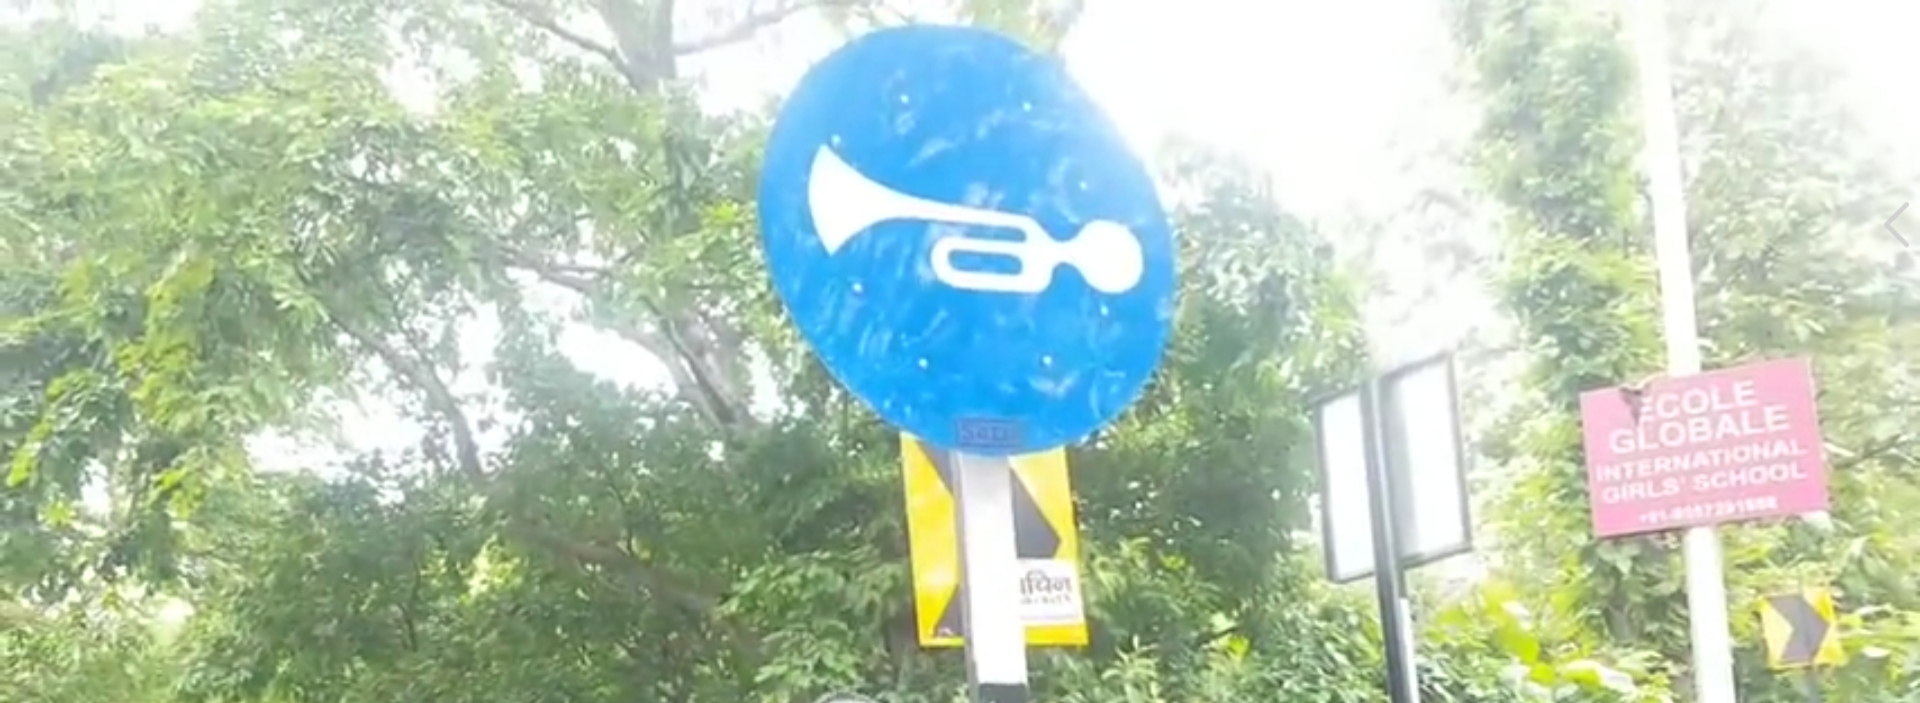traffic_sign: (758, 24, 1176, 456)
